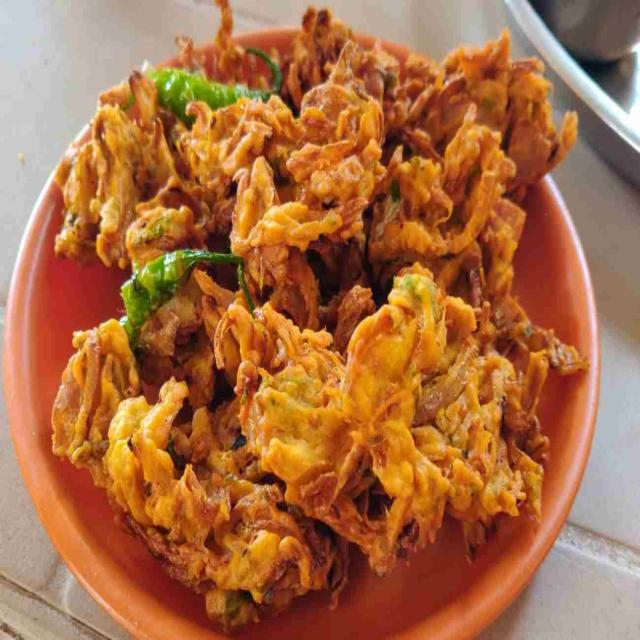BAJI: (50, 5, 580, 636)
